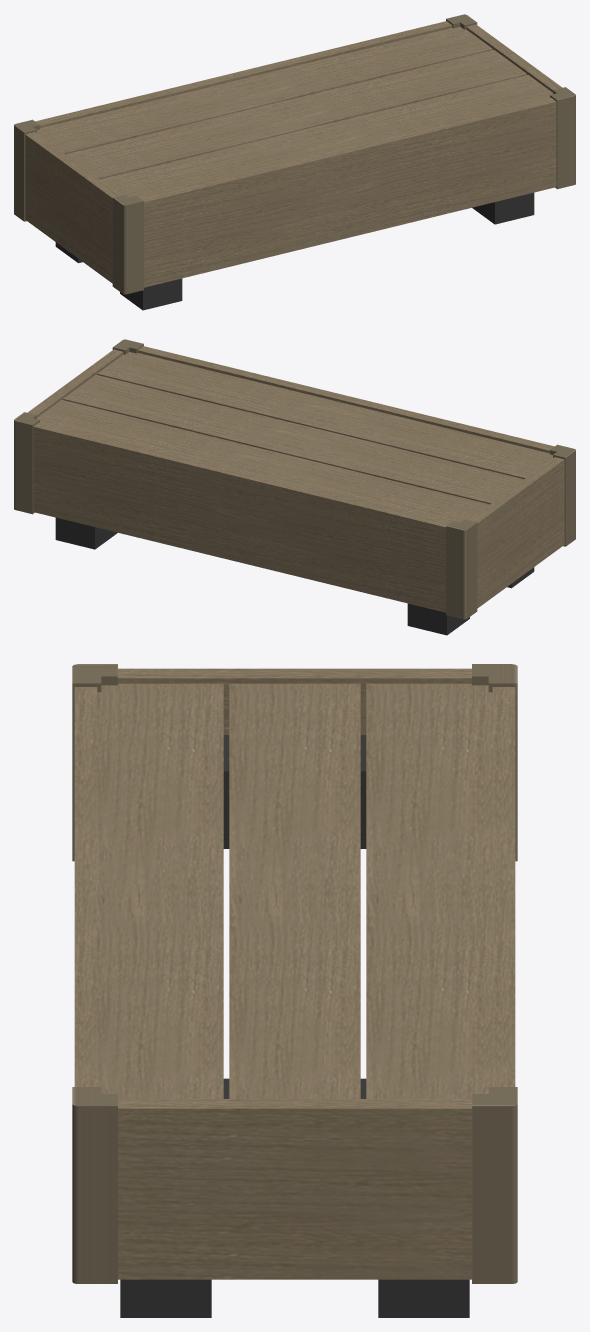
File: ecowoodreal-step_olive2.fbx
3 views of the same model, one above another, from view 1: azimuth 30°, elevation 25°; view 2: azimuth 150°, elevation 25°; view 3: azimuth 270°, elevation 25° (orthographic). The views are drawn at different scales.
Visible parts, largest first — view 1: ecowoodreal-step_olive2; view 2: ecowoodreal-step_olive2; view 3: ecowoodreal-step_olive2.
Part boxes in pixels (x1,y1,x2,y2): ecowoodreal-step_olive2: (14, 14, 575, 310); ecowoodreal-step_olive2: (14, 339, 575, 635); ecowoodreal-step_olive2: (72, 664, 517, 1317).
Bounding box in the file's own units: 91.6 × 23.35 × 39.
3 materials, 3 textured.
